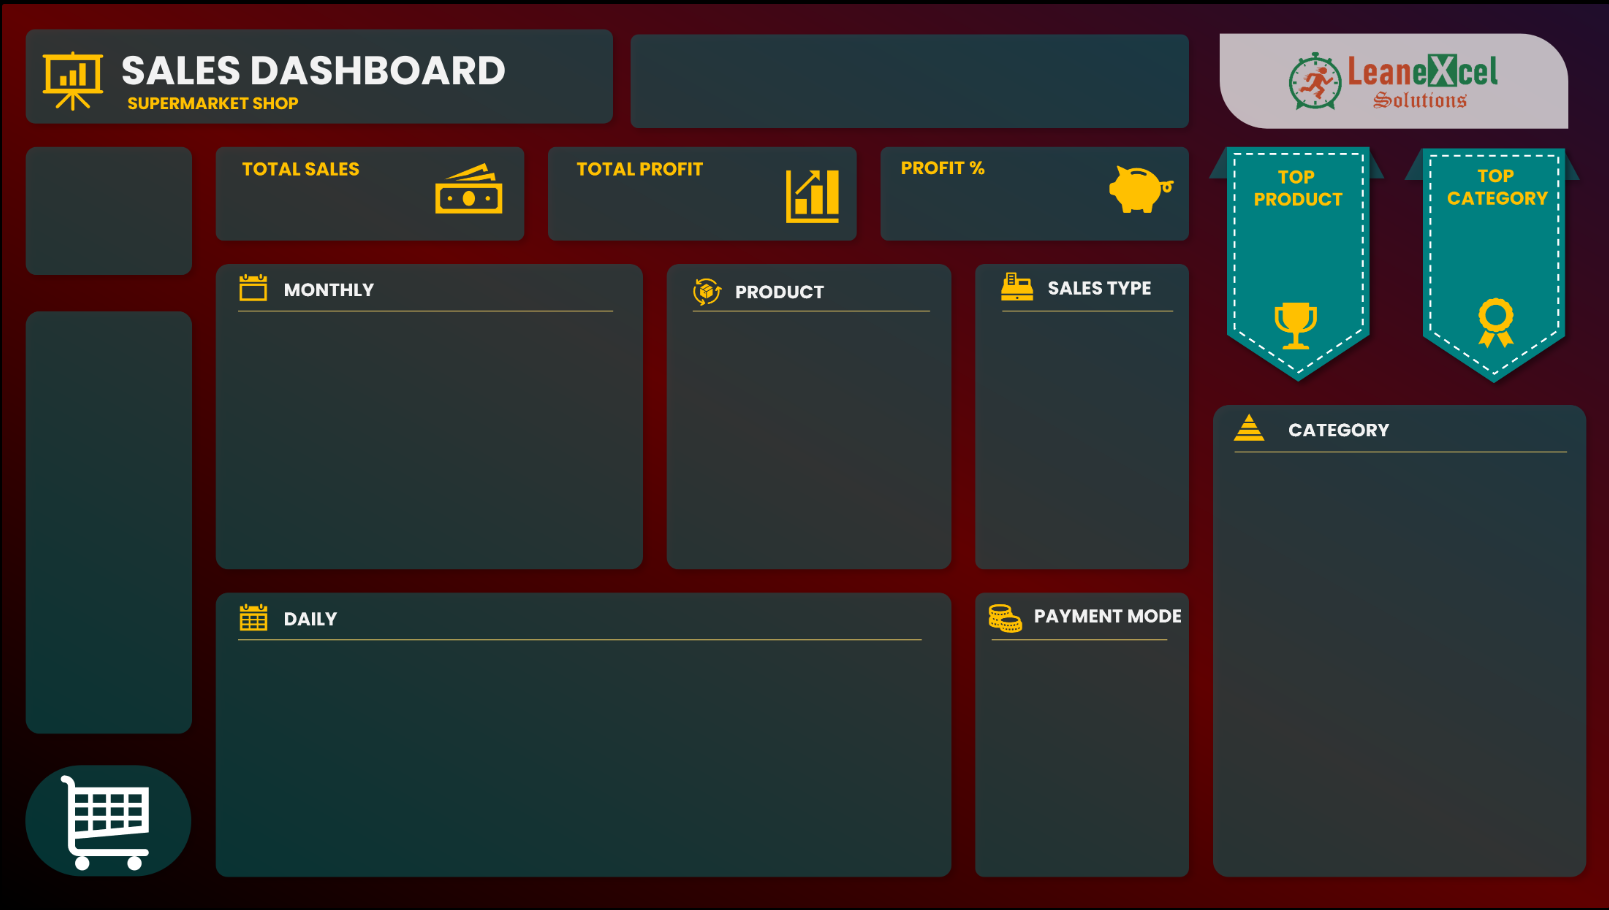

This screenshot's page, from the dashboard's own definition file:
{"tool":"powerbi","page":{"name":"Sales Dashboard","canvas":[1280,720],"ordinal":0},"visuals":[{"type":"slicer","fields":{"Values":["InputData.Year"]},"box":[25.6,122.4,124.6,86.8],"z":0},{"type":"slicer","fields":{"Values":["InputData.Month Name"]},"box":[25.6,249.3,101.3,363.9],"z":1000},{"type":"slicer","fields":{"Values":["InputData.PAYMENT MODE"]},"box":[738.9,32.3,173.6,64.5],"z":2000},{"type":"slicer","fields":{"Values":["InputData.SALE TYPE"]},"box":[518.6,32.3,165.8,64.5],"z":3000},{"type":"card","fields":{"Values":["Sum(InputData.Total Selling Value)"]},"box":[184.7,123.5,105.7,66.8],"z":4000},{"type":"card","fields":{"Values":["Sum(InputData.Profit)"]},"box":[447.4,126.9,91.3,60.1],"z":5000},{"type":"card","fields":{"Values":["Avg(InputData.Profit %)"]},"box":[701.1,125.7,133.5,61.2],"z":6000},{"type":"card","fields":{"Values":["Min(InputData.MasterData.PRODUCT)"]},"box":[975.6,168.8,120.8,46.7],"z":8000},{"type":"columnChart","fields":{"Category":["InputData.Month Name"],"Y":["Sum(InputData.Total Selling Value)","Sum(InputData.Profit)"]},"box":[175.8,249.3,329.4,195.9],"z":11000},{"type":"barChart","fields":{"Category":["InputData.MasterData.PRODUCT"],"Y":["Sum(InputData.Total Selling Value)"]},"box":[524.4,245.3,230.2,198.8],"z":12000},{"type":"areaChart","fields":{"Y":["Sum(InputData.Total Selling Value)"],"Category":["InputData.Day"]},"box":[176.9,496.3,563.1,199.2],"z":13000},{"type":"donutChart","fields":{"Y":["Sum(InputData.Total Selling Value)"],"Category":["InputData.SALE TYPE"]},"box":[740,249.3,245.9,205.9],"z":14000},{"type":"treemap","fields":{"Values":["Sum(InputData.Total Selling Value)"],"Group":["InputData.MasterData.CATEGORY"]},"box":[976,360.6,282.7,335],"z":16000},{"type":"donutChart","fields":{"Y":["Sum(InputData.Total Selling Value)"],"Category":["InputData.PAYMENT MODE"]},"box":[730,489.6,245.9,205.9],"z":16001},{"type":"card","fields":{"Values":["Min(InputData.MasterData.CATEGORY)"]},"box":[1133.7,175.6,105.8,33.7],"z":16003}]}

Visuals, with their boxes in screenshot pixels (x1, y1, x2, y2), scaled from the page's 1280x720 canvas onto the 1609x910 screenshot:
slicer - InputData.Year: left=32, top=155, right=189, bottom=264
slicer - InputData.Month Name: left=32, top=315, right=160, bottom=775
slicer - InputData.PAYMENT MODE: left=929, top=41, right=1147, bottom=122
slicer - InputData.SALE TYPE: left=652, top=41, right=860, bottom=122
card - Sum(InputData.Total Selling Value): left=232, top=156, right=365, bottom=241
card - Sum(InputData.Profit): left=562, top=160, right=677, bottom=236
card - Avg(InputData.Profit %): left=881, top=159, right=1049, bottom=236
card - Min(InputData.MasterData.PRODUCT): left=1226, top=213, right=1378, bottom=272
columnChart - InputData.Month Name x Sum(InputData.Total Selling Value): left=221, top=315, right=635, bottom=563
barChart - InputData.MasterData.PRODUCT x Sum(InputData.Total Selling Value): left=659, top=310, right=949, bottom=561
areaChart - Sum(InputData.Total Selling Value) x InputData.Day: left=222, top=627, right=930, bottom=879
donutChart - Sum(InputData.Total Selling Value) x InputData.SALE TYPE: left=930, top=315, right=1239, bottom=575
treemap - Sum(InputData.Total Selling Value) x InputData.MasterData.CATEGORY: left=1227, top=456, right=1582, bottom=879
donutChart - Sum(InputData.Total Selling Value) x InputData.PAYMENT MODE: left=918, top=619, right=1227, bottom=879
card - Min(InputData.MasterData.CATEGORY): left=1425, top=222, right=1558, bottom=265
